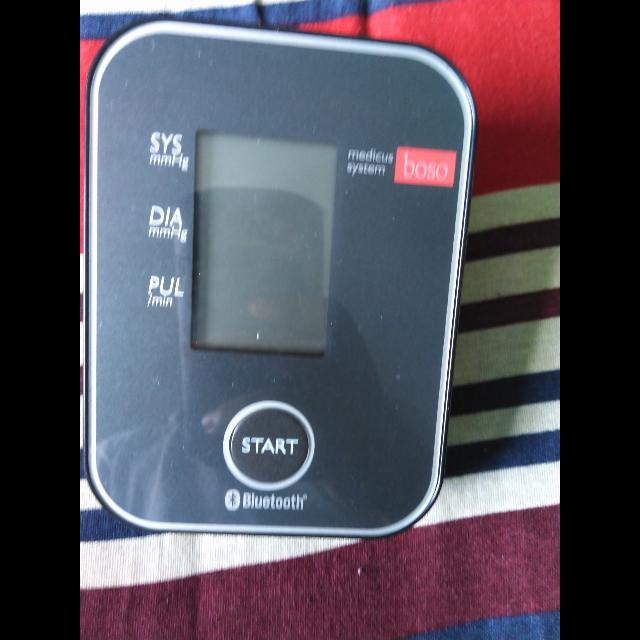Blood-Pressure-Monitor: (90, 3, 474, 550)
